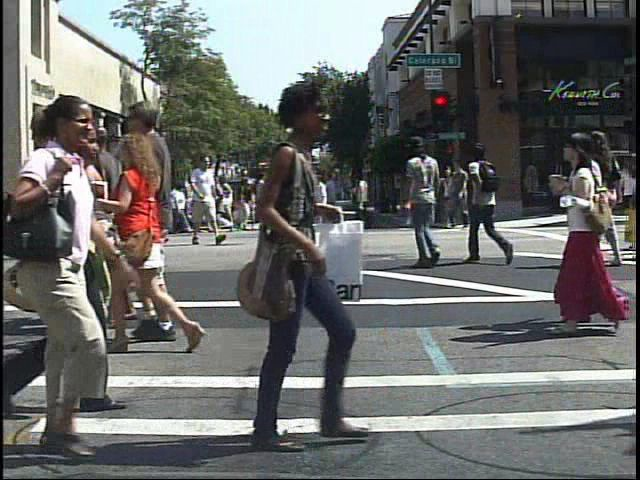person: (206, 77, 382, 459), (6, 90, 157, 468), (104, 121, 214, 357), (109, 97, 180, 351), (550, 121, 628, 347), (459, 138, 521, 271), (583, 127, 614, 342), (403, 129, 448, 276), (186, 152, 220, 249), (69, 163, 99, 247), (141, 159, 172, 238), (127, 161, 156, 244), (403, 161, 432, 233), (53, 183, 79, 246), (84, 183, 104, 225)
